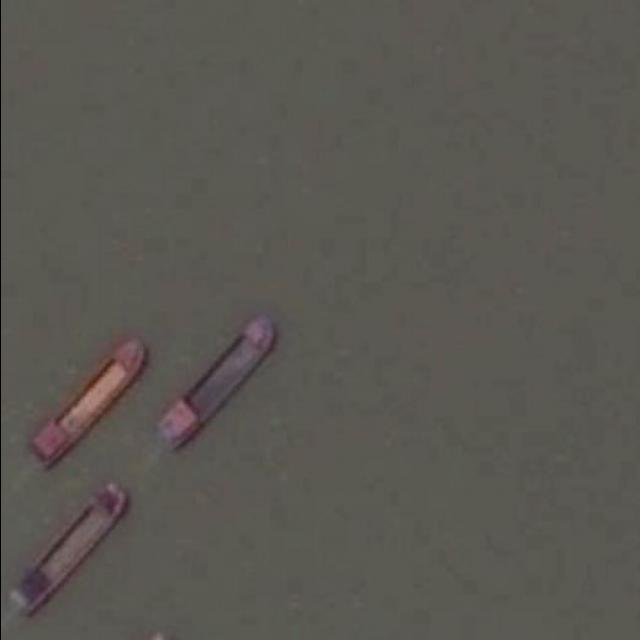ship: (156, 313, 280, 449), (10, 479, 135, 613), (28, 333, 148, 468)
